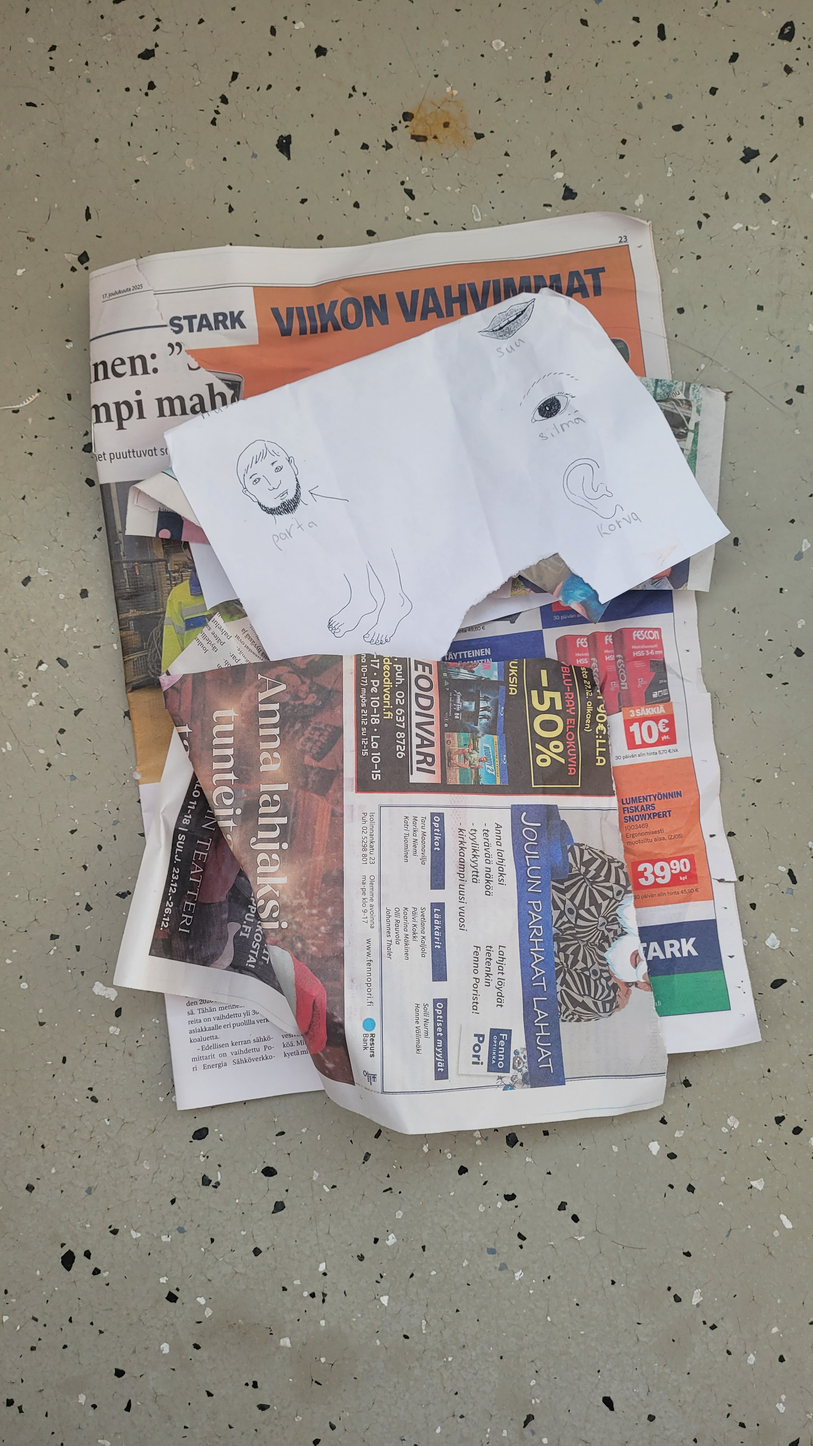paper: (195, 503, 689, 1240)
